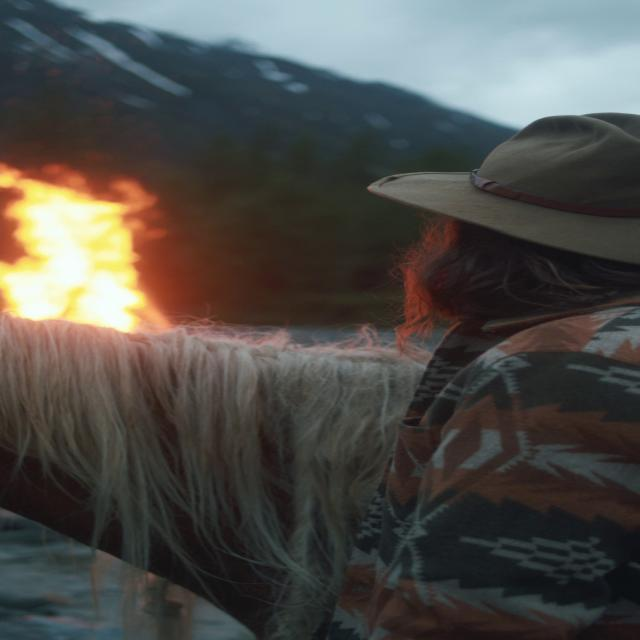Fire: (0, 152, 168, 330)
